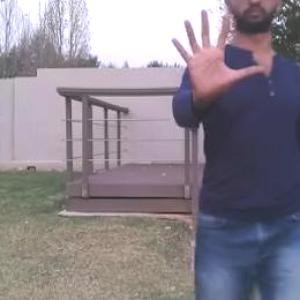follow_hand: (166, 1, 267, 107)
